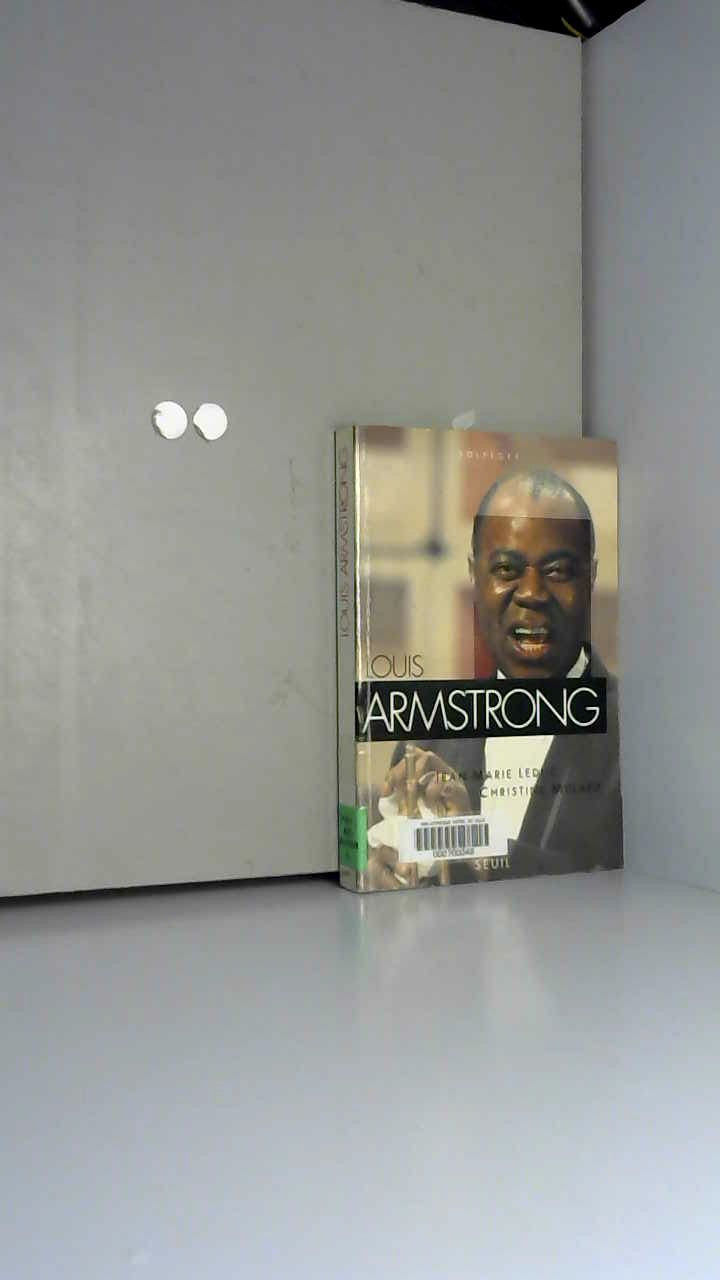book: (300, 380, 716, 932)
